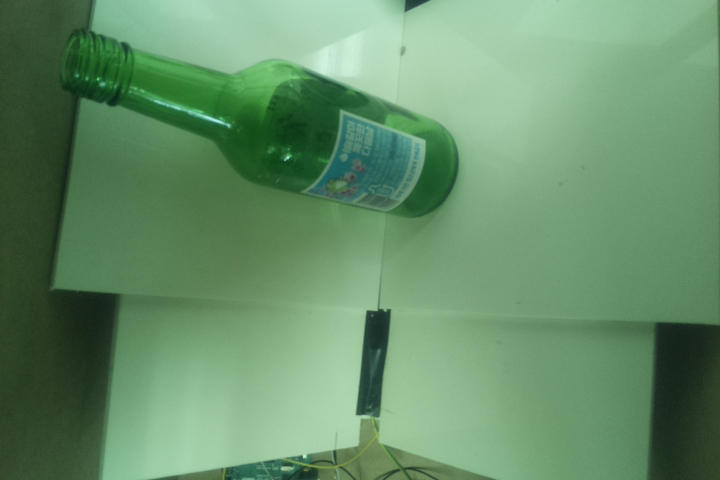soju: (58, 26, 461, 221)
